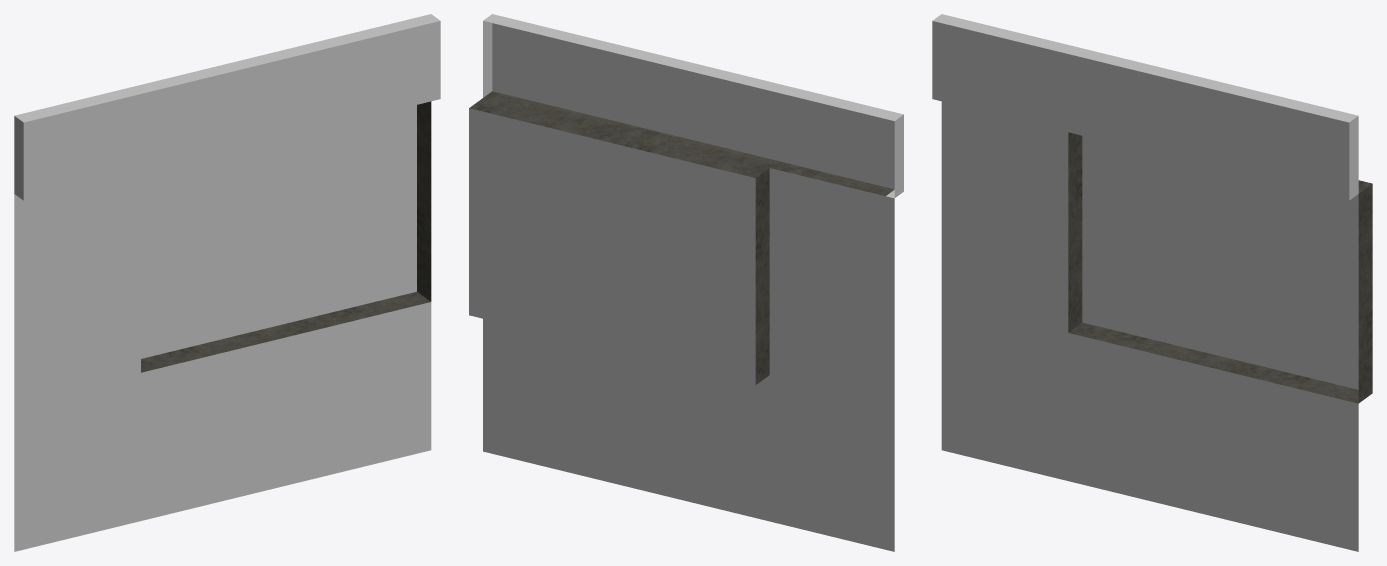
The model's file is CT_door_10.fbx.
3 renders of one model, left to right at view 1: azimuth 30°, elevation 25°; view 2: azimuth 150°, elevation 25°; view 3: azimuth 330°, elevation 25°, orthographic.
Visible parts, largest first — view 1: CT_door_10; view 2: CT_door_10; view 3: CT_door_10.
Part boxes in pixels (x1=…): CT_door_10: x1=14, y1=14, x2=440, y2=551; CT_door_10: x1=469, y1=14, x2=903, y2=551; CT_door_10: x1=932, y1=14, x2=1372, y2=551.
Bounding box in the file's own units: 256 × 256 × 25.
